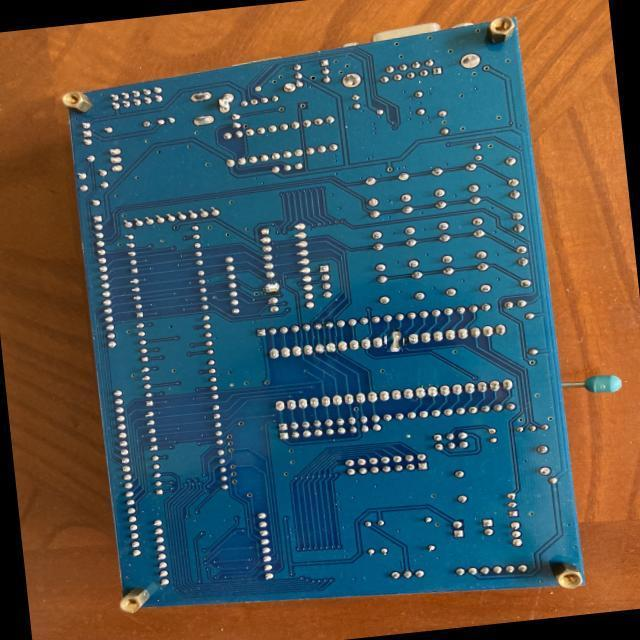damged: (385, 330, 405, 350), (264, 279, 281, 296)
